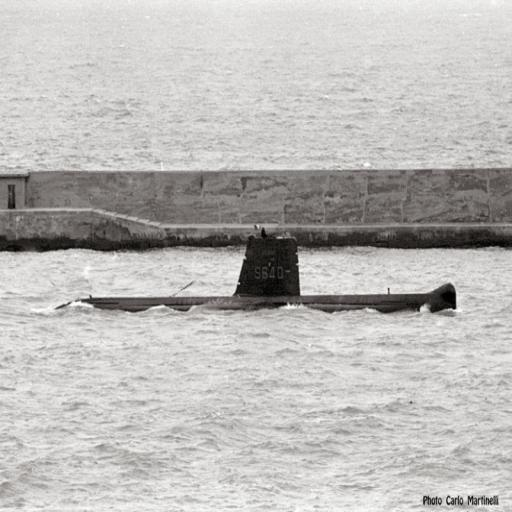submarine: (57, 242, 458, 309)
